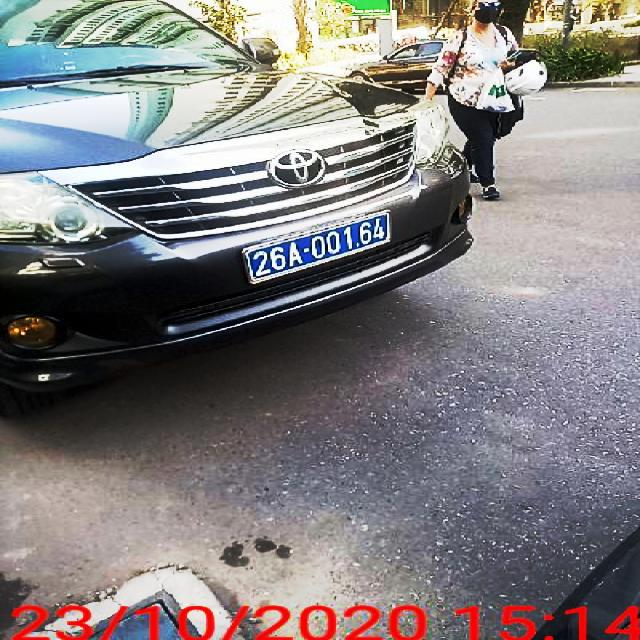license_plate: (248, 214, 391, 283)
